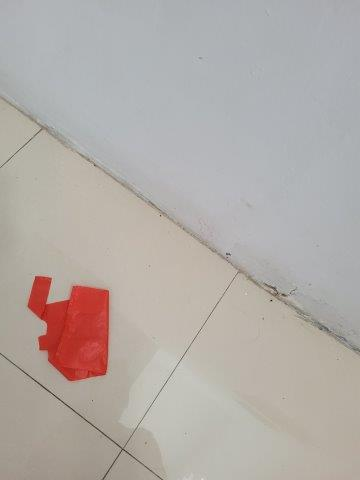plastik: (28, 276, 110, 382)
